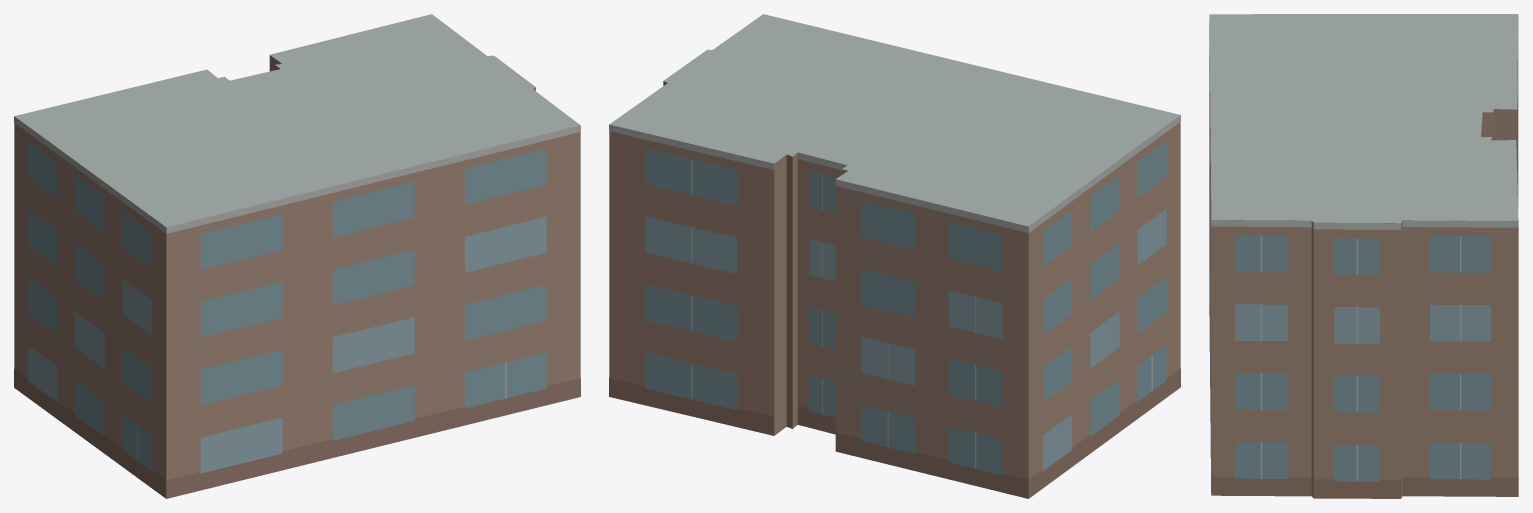
File: survey-upis-32959156.glb
The picture shows the model from 3 angles, left to right: view 1: azimuth 30°, elevation 25°; view 2: azimuth 150°, elevation 25°; view 3: azimuth 270°, elevation 25°; orthographic projection.
Visible parts, largest first — view 1: survey-upis-32959156.tmp; view 2: survey-upis-32959156.tmp; view 3: survey-upis-32959156.tmp.
Boxes of the visible parts, box(x1,y1,x2,y2) form: survey-upis-32959156.tmp: box(14, 14, 580, 498); survey-upis-32959156.tmp: box(609, 14, 1180, 498); survey-upis-32959156.tmp: box(1209, 14, 1518, 498).
Size of the model in its own units: 16.44 by 10.1 by 10.27.
